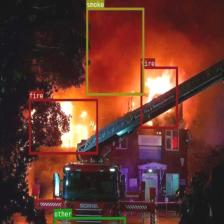fire: (28, 98, 98, 154), (140, 66, 177, 129)
smoke: (86, 7, 144, 96)
